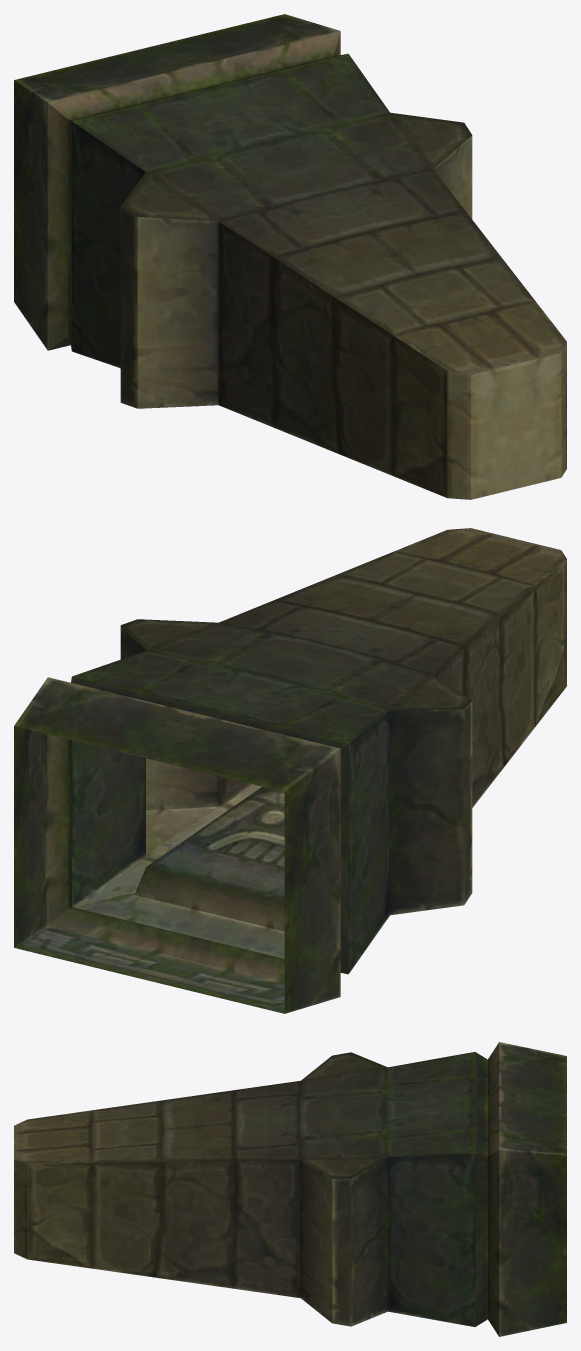
File: taitan_fuben_02_jitan_03.obj
The picture shows the model from 3 angles, top to bottom: view 1: azimuth 30°, elevation 25°; view 2: azimuth 150°, elevation 25°; view 3: azimuth 270°, elevation 25°; orthographic projection. The views are drawn at different scales.
Parts seen in each view (by area): view 1: taitan_fuben_02_jitan_03; view 2: taitan_fuben_02_jitan_03; view 3: taitan_fuben_02_jitan_03.
Part boxes in pixels (x1=…): taitan_fuben_02_jitan_03: x1=14, y1=14, x2=566, y2=499; taitan_fuben_02_jitan_03: x1=14, y1=528, x2=566, y2=1013; taitan_fuben_02_jitan_03: x1=14, y1=1042, x2=566, y2=1336.
Bounding box in the file's own units: 80.22 × 55.4 × 148.
Materials: 1 (1 with a texture image).
